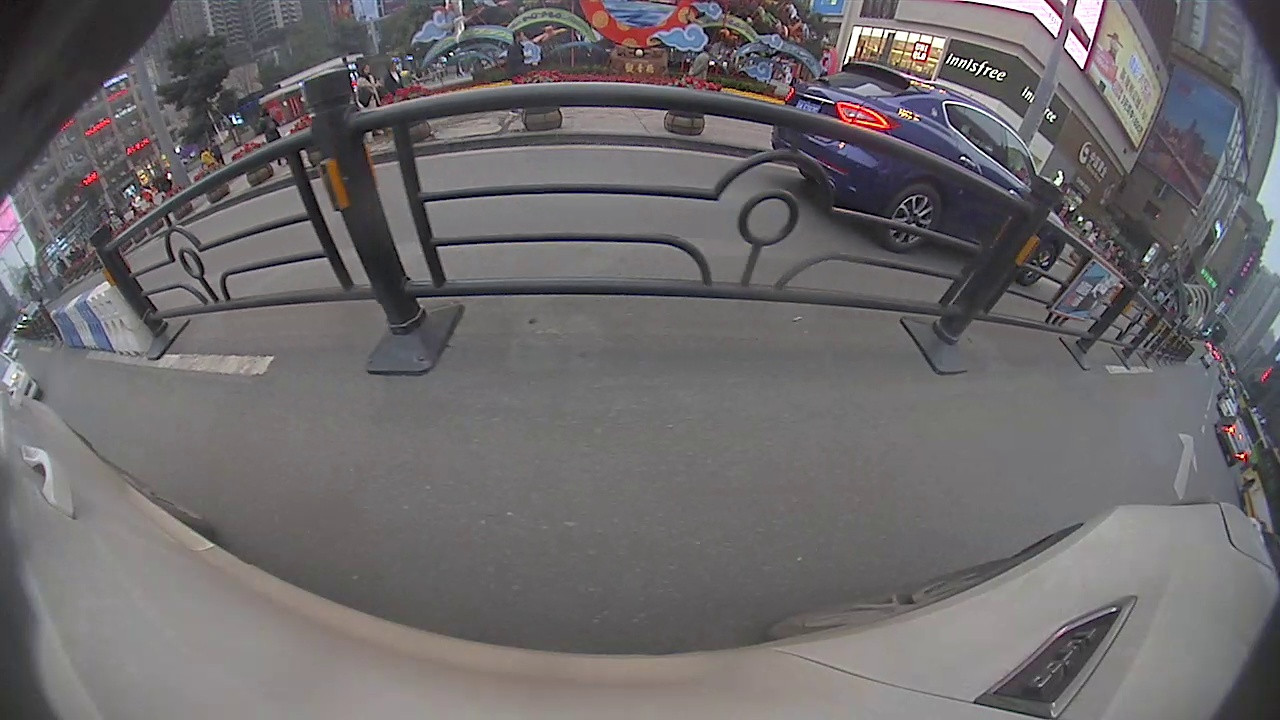car: (773, 62, 1068, 288)
front: (1017, 245, 1060, 287)
rear: (878, 180, 941, 254)
